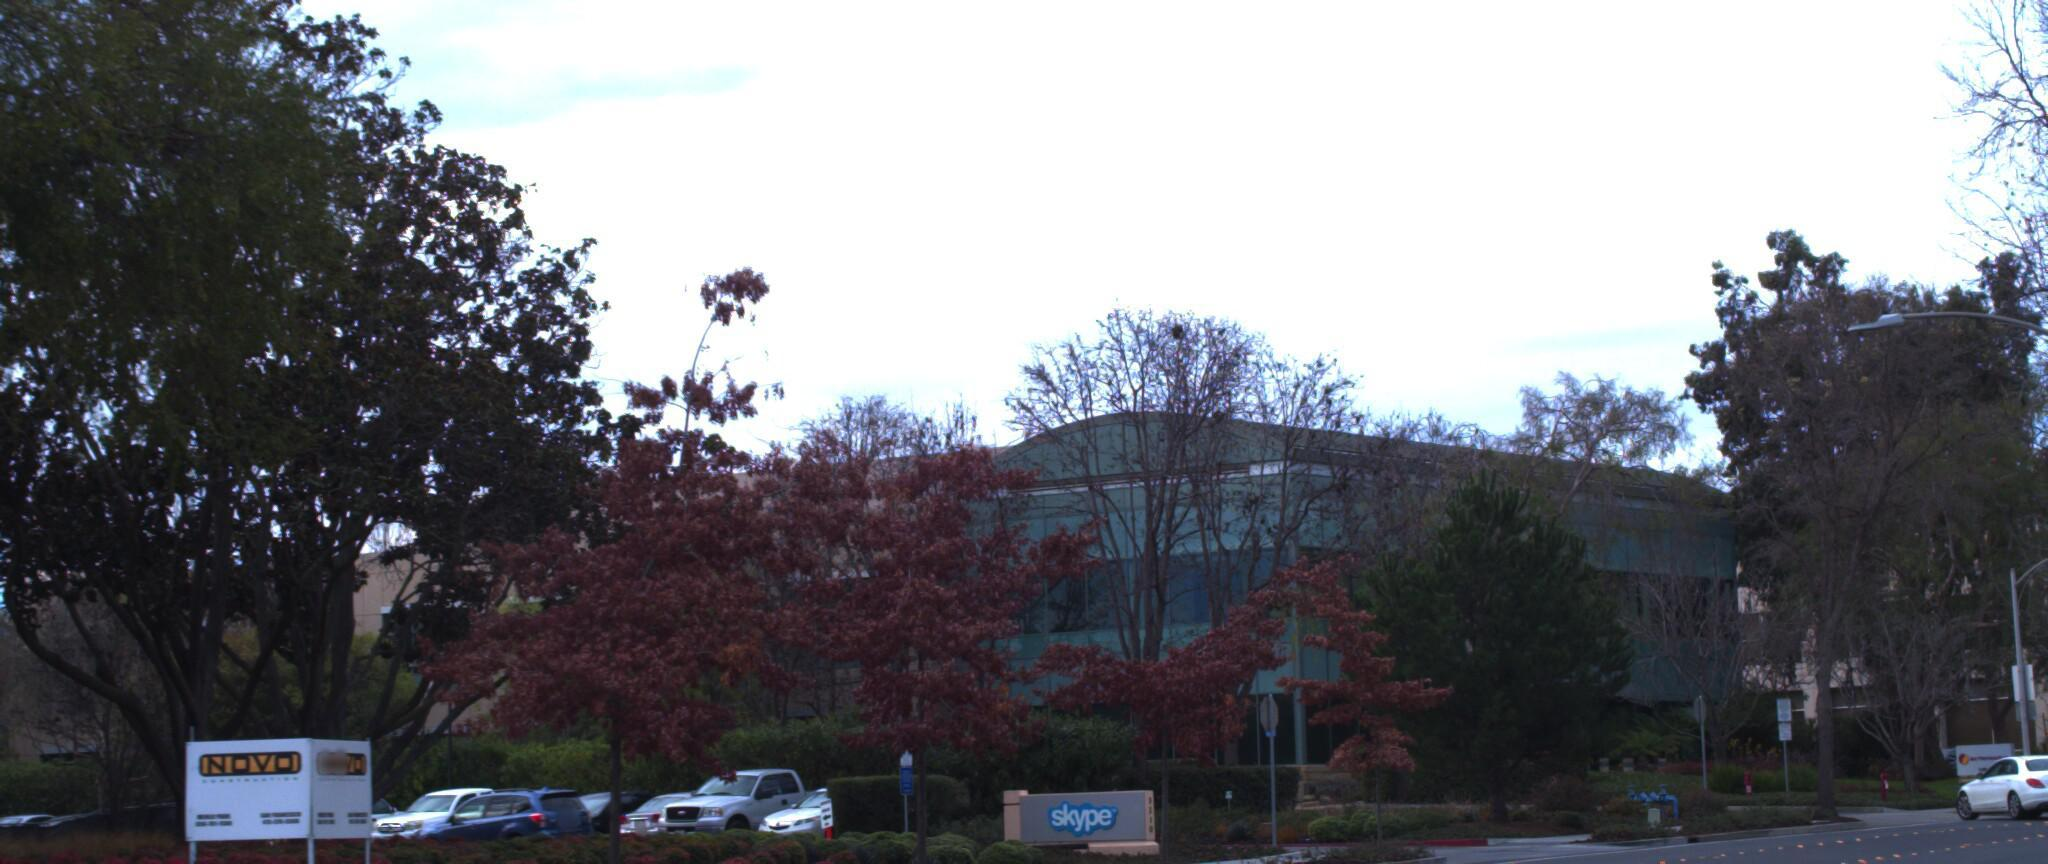car: (1946, 750, 2048, 830)
